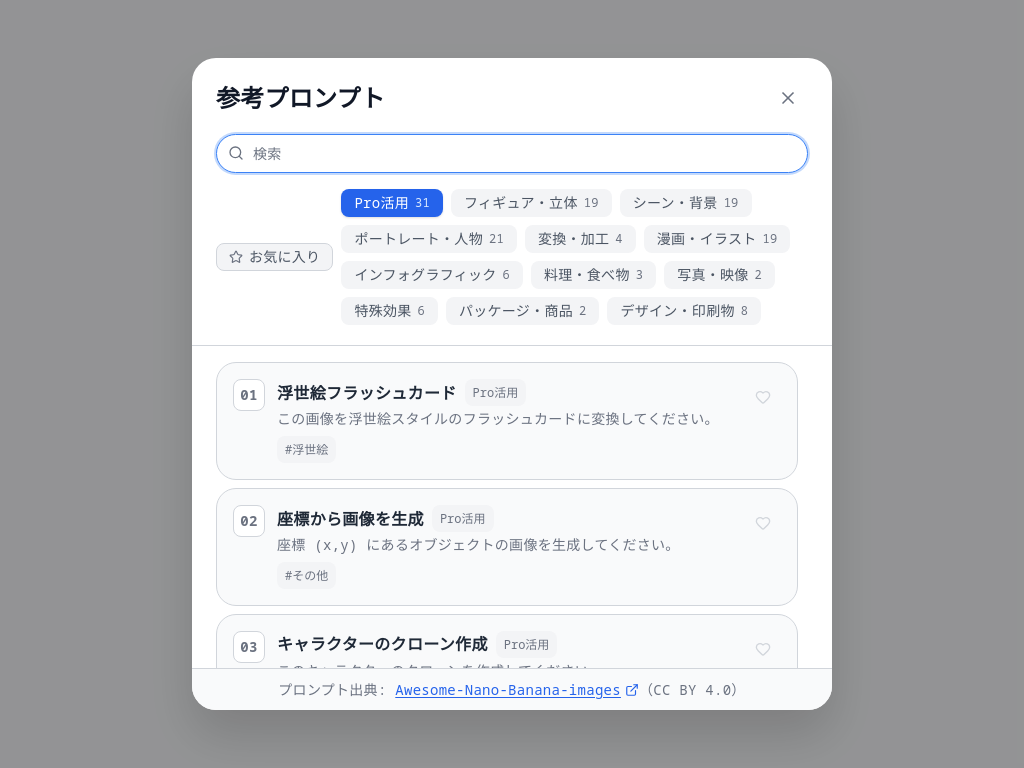
PromptReferencePicker › toggles favorites from the prompt list
The image size is (1024, 768).
Click the 1st button named "お気に入りに追加".
click(763, 397)  # box [745, 379, 781, 415]
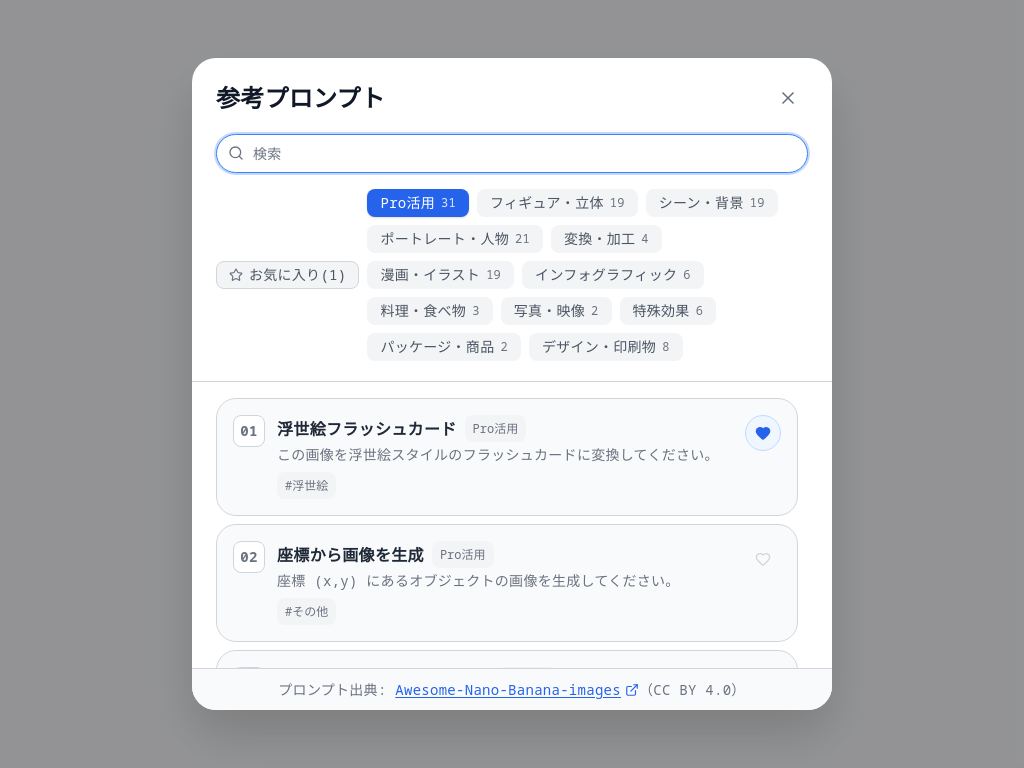
Expected: the button "お気に入り(1)" is shown, [216, 261, 360, 289]
